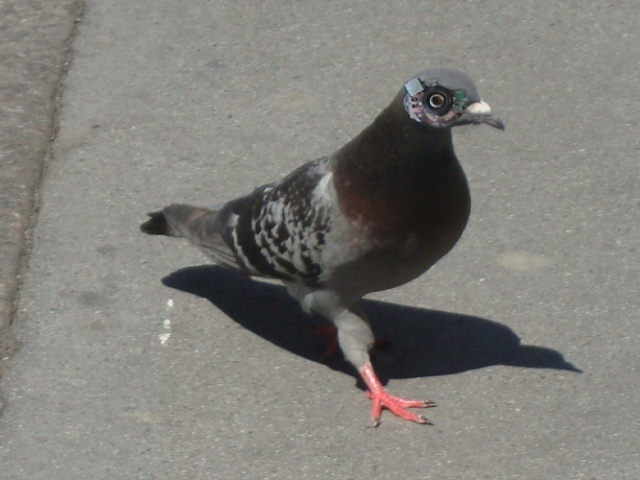Pigeon: (122, 62, 512, 427)
